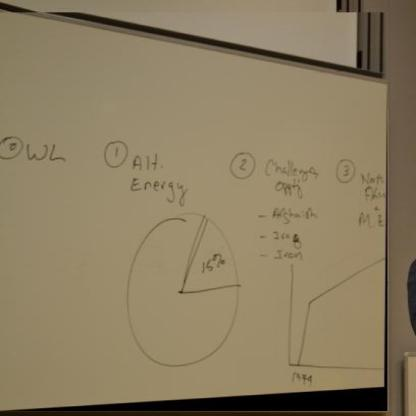Handwritten text: (126, 173, 205, 208), (22, 139, 69, 168), (265, 206, 323, 226), (129, 151, 169, 170)
Whiteboard: (0, 9, 389, 412)
